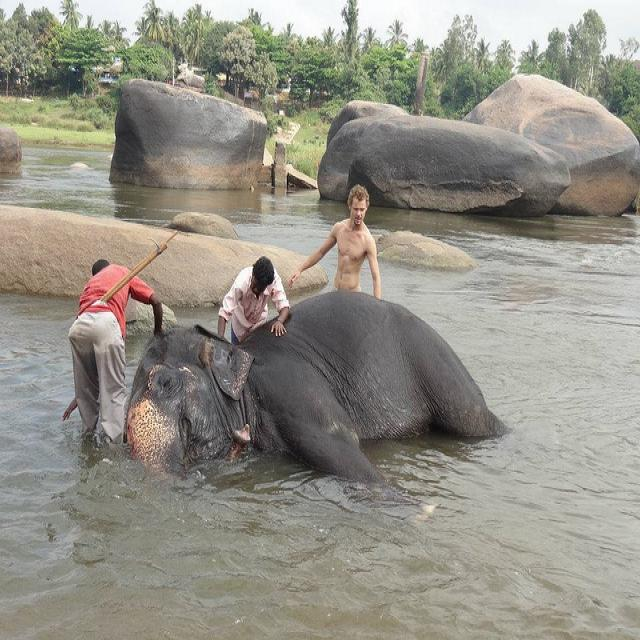Elephant: (123, 288, 511, 501)
person: (62, 258, 163, 446), (288, 184, 381, 299), (217, 255, 291, 344)
